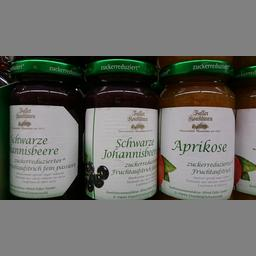jam: (81, 58, 159, 199), (158, 58, 236, 198), (6, 58, 82, 199)
